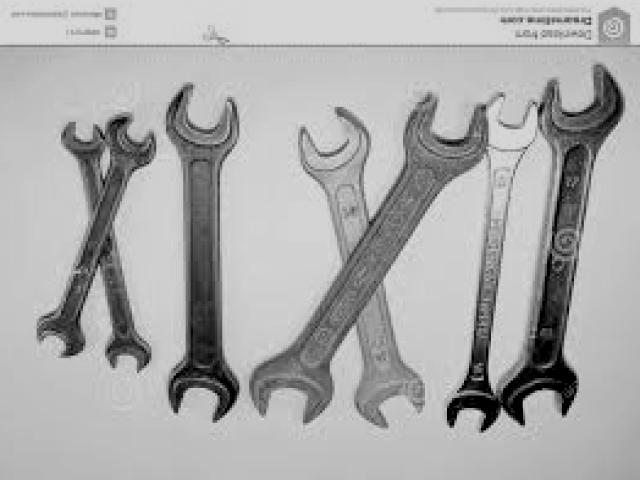Wrench: (250, 96, 485, 423), (500, 66, 625, 425), (299, 109, 427, 427), (448, 96, 538, 432), (38, 119, 156, 357), (166, 86, 239, 421), (60, 122, 152, 374)
